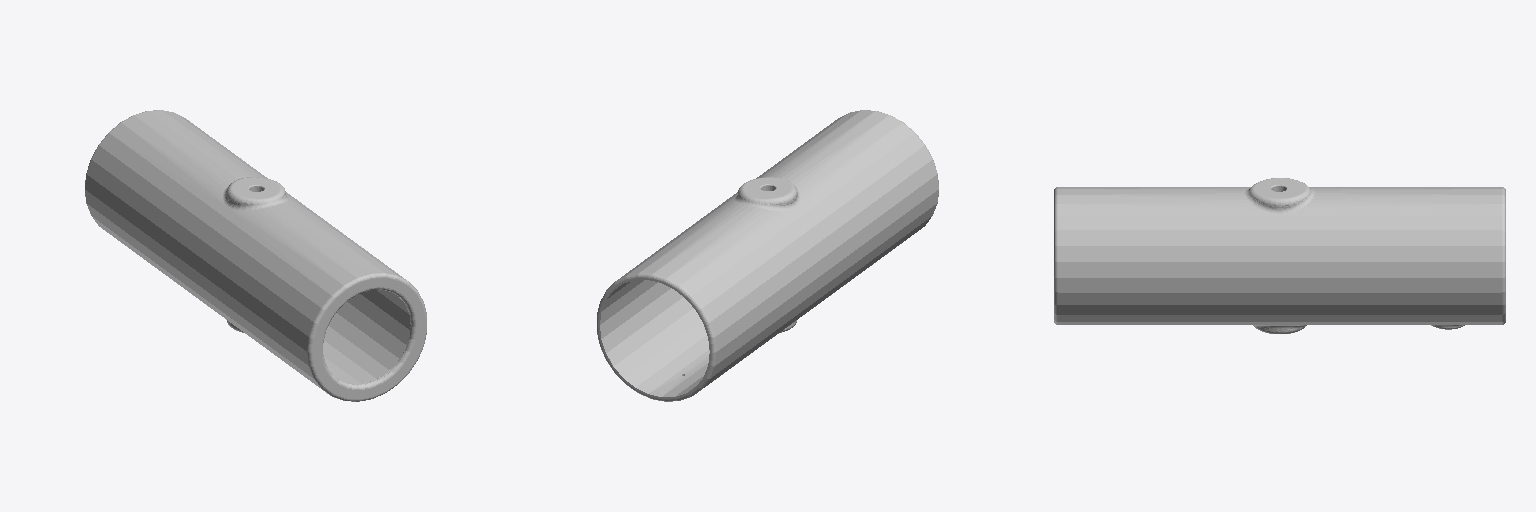
File: engine.obj
The picture shows the model from 3 angles: view 1: azimuth 30°, elevation 25°; view 2: azimuth 150°, elevation 25°; view 3: azimuth 270°, elevation 25°; orthographic projection.
Parts seen in each view (by area): view 1: Body1; view 2: Body1; view 3: Body1.
Boxes of the visible parts, x1,y1,x2,y2 form: Body1: [85, 110, 426, 401]; Body1: [597, 110, 938, 401]; Body1: [1054, 178, 1505, 333].
Size of the model in its own units: 3.49 by 3.77 by 11.4.